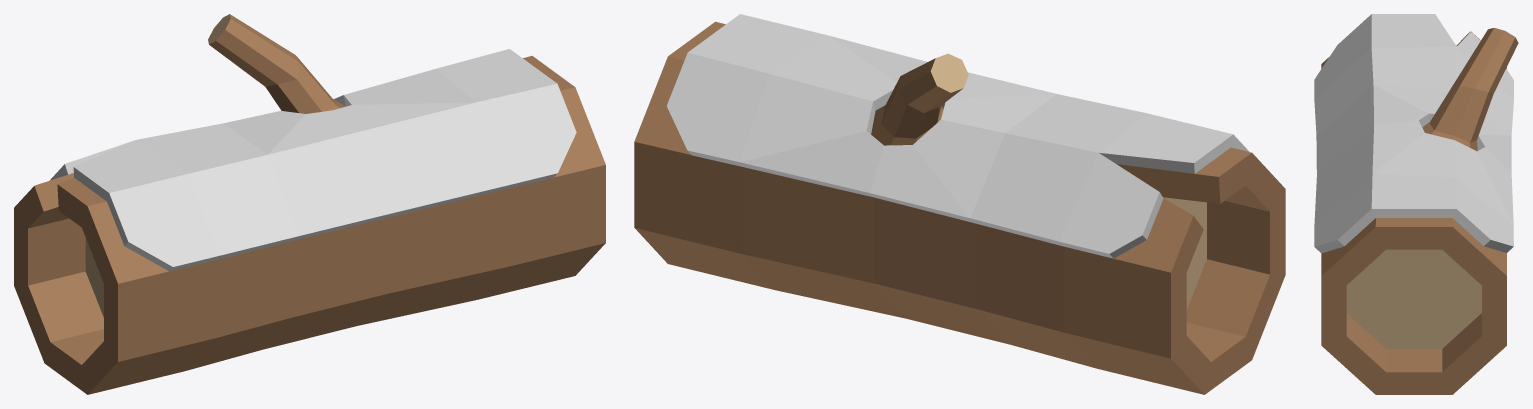
Rendered from WoodenLog_Snow.fbx.
3 views of the same model, side by side, from view 1: azimuth 30°, elevation 25°; view 2: azimuth 150°, elevation 25°; view 3: azimuth 270°, elevation 25° (orthographic). The views are drawn at different scales.
Parts seen in each view (by area): view 1: WoodenLog_Snow; view 2: WoodenLog_Snow; view 3: WoodenLog_Snow.
Boxes of the visible parts, x1,y1,x2,y2 form: WoodenLog_Snow: (14, 14, 605, 394); WoodenLog_Snow: (634, 14, 1285, 394); WoodenLog_Snow: (1314, 14, 1518, 394).
Size of the model in its own units: 2 by 1.08 by 0.8139.
